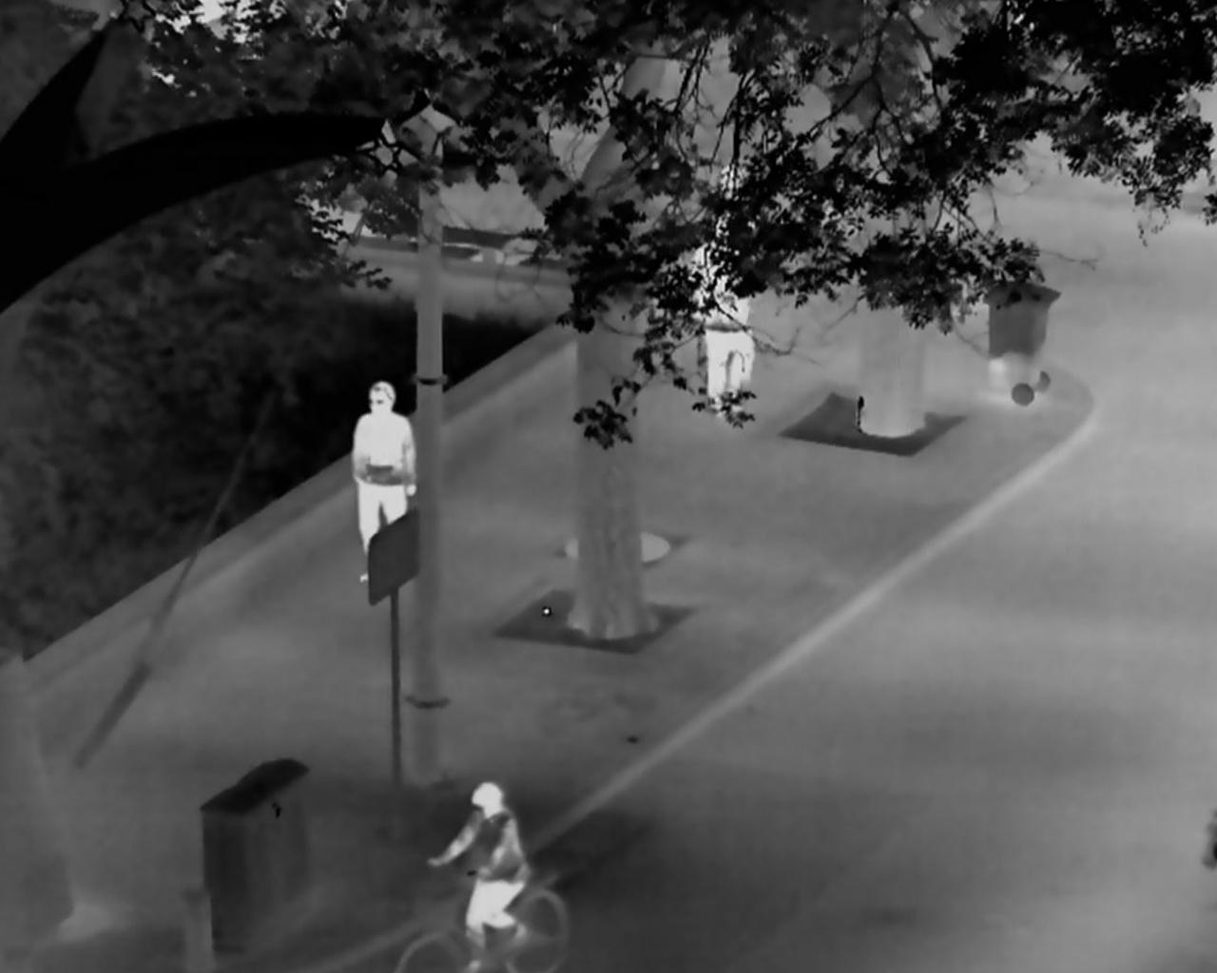person: (427, 780, 531, 973), (350, 380, 417, 582), (688, 212, 752, 417)
